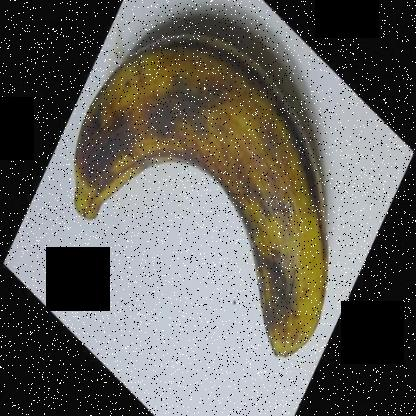overripe: (60, 20, 338, 360)
